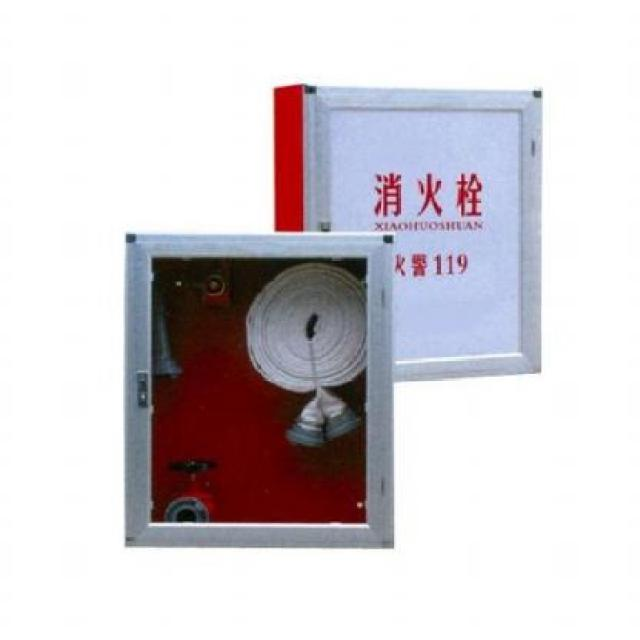firehydrant: (118, 226, 400, 553), (268, 78, 548, 391)
